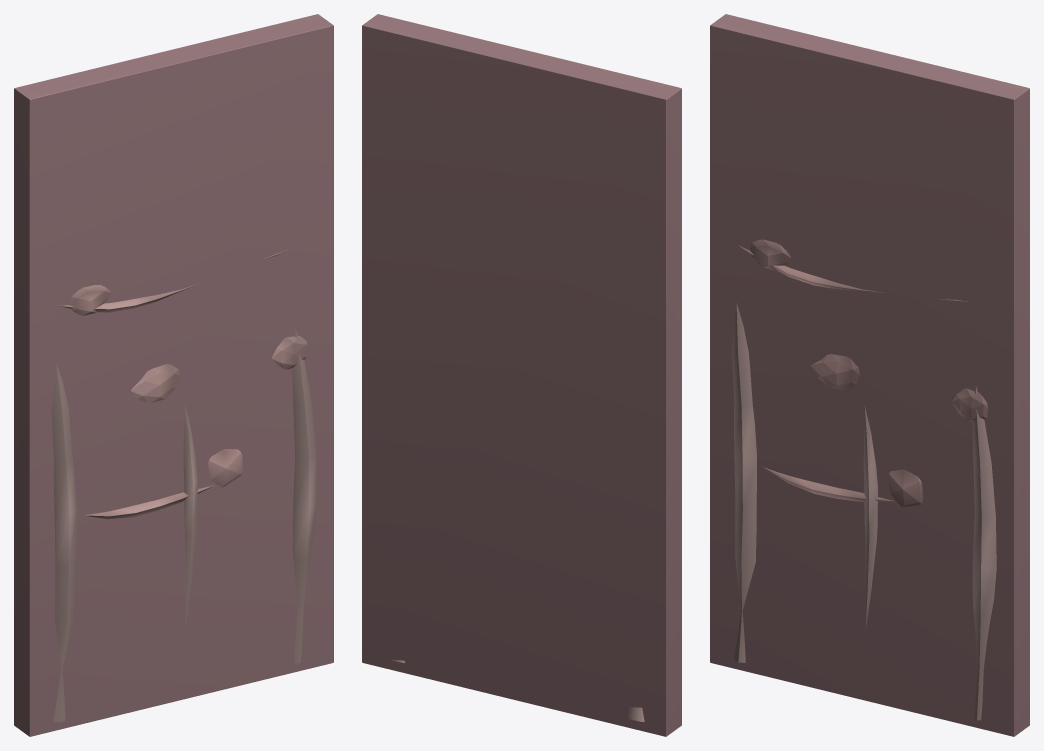
File: sinew-wall-a.glb
3 views of the same model, side by side, from view 1: azimuth 30°, elevation 25°; view 2: azimuth 150°, elevation 25°; view 3: azimuth 330°, elevation 25° (orthographic).
Parts seen in each view (by area): view 1: body; view 2: body; view 3: body.
Boxes of the visible parts, x1,y1,x2,y2 form: body: (14,14,333,736); body: (362,14,681,736); body: (710,14,1029,736).
Size of what is drawn, in the model's own units: 1 by 2 by 0.1187.
